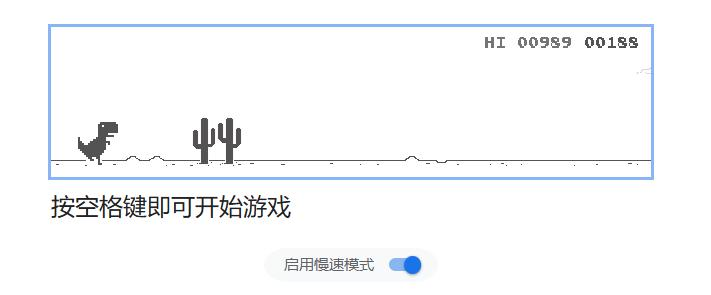cactus: (191, 116, 242, 166)
dino: (76, 121, 119, 165)
